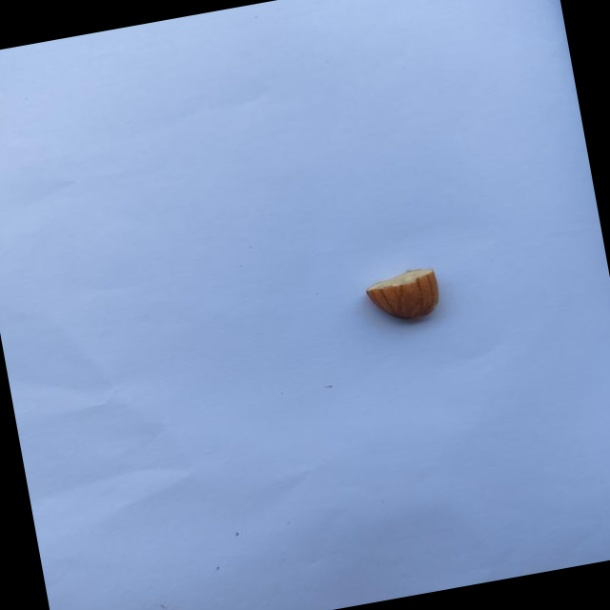grade4: (355, 261, 451, 335)
